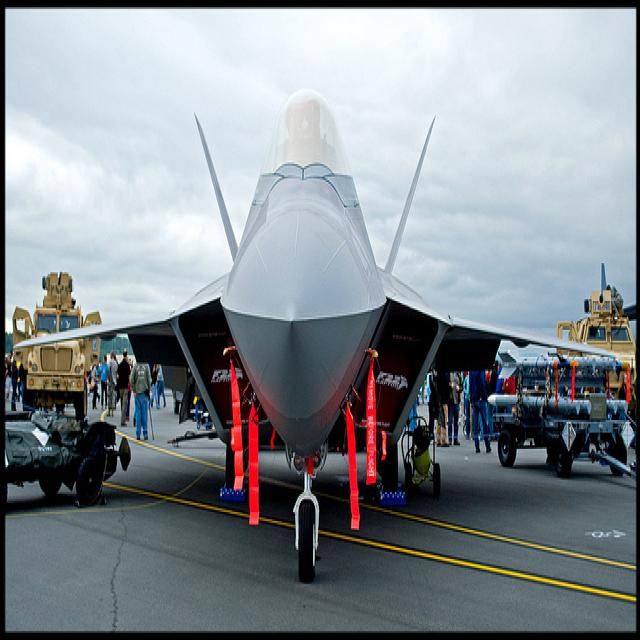Vehicle: (487, 347, 637, 484), (557, 260, 638, 401), (12, 305, 102, 417)
